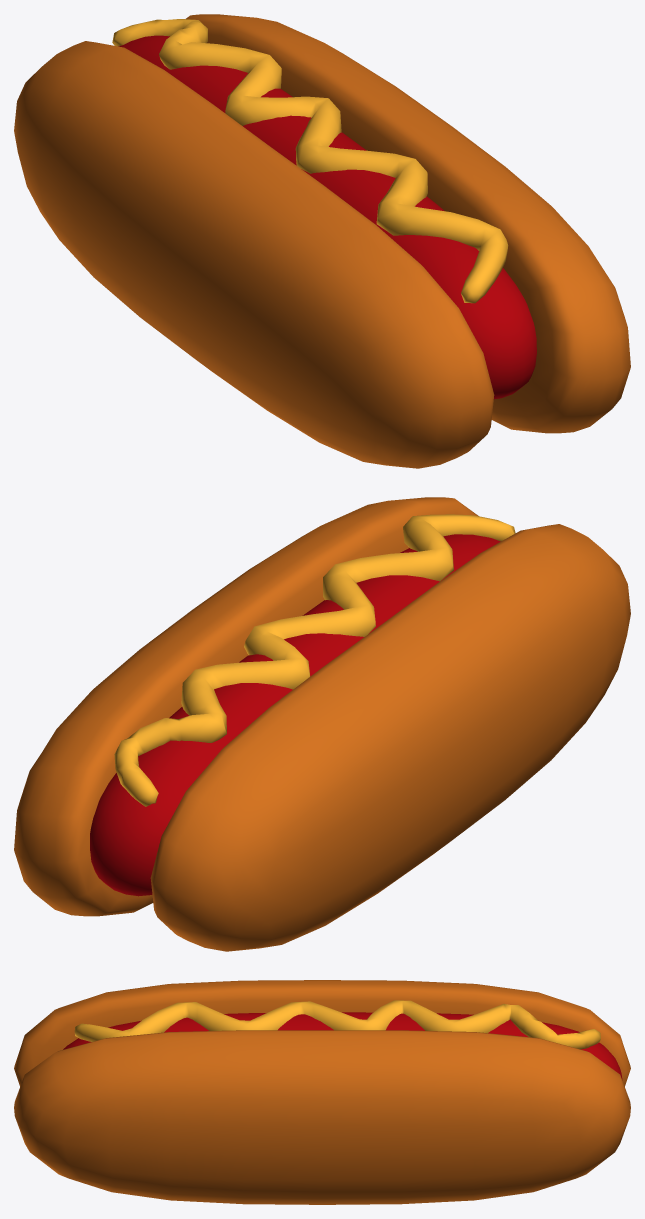
The model's file is Hotdog.fbx.
The picture shows the model from 3 angles, top to bottom: view 1: azimuth 30°, elevation 25°; view 2: azimuth 150°, elevation 25°; view 3: azimuth 270°, elevation 25°; orthographic projection. The views are drawn at different scales.
Parts seen in each view (by area): view 1: Hotdog; view 2: Hotdog; view 3: Hotdog.
Boxes of the visible parts, box(x1,y1,x2,y2) form: Hotdog: box(14, 14, 630, 468); Hotdog: box(14, 497, 630, 951); Hotdog: box(14, 980, 630, 1204).
Bounding box in the file's own units: 0.8395 × 2.07 × 0.5982.
